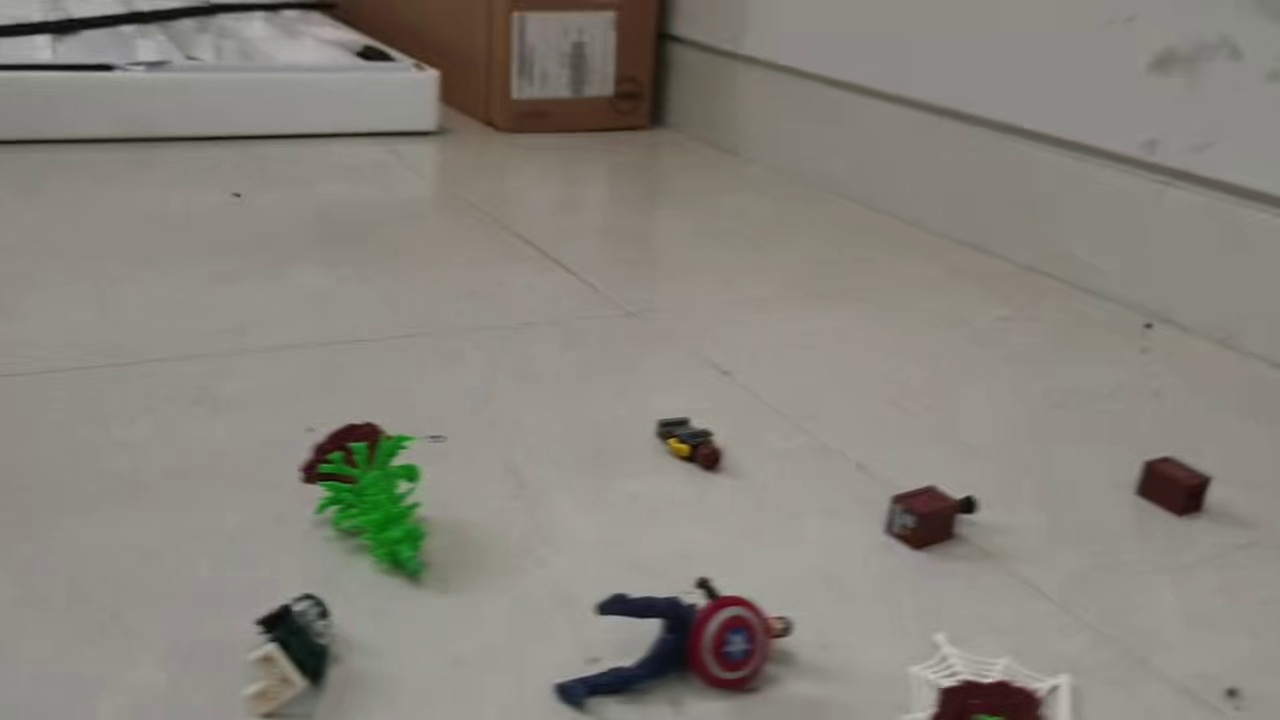box: (882, 486, 980, 551), (1136, 455, 1214, 521)
people: (552, 576, 796, 713), (242, 591, 333, 715), (652, 416, 726, 475)
tree: (297, 420, 444, 589), (929, 680, 1043, 720)
web: (891, 631, 1074, 720)
